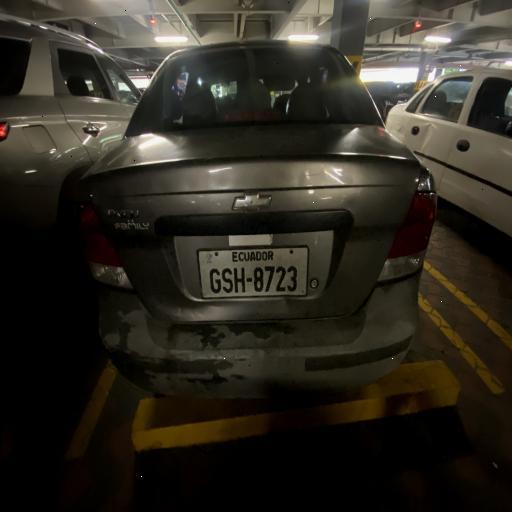license_plate: (207, 268, 222, 295), (233, 266, 246, 294), (221, 267, 234, 293), (264, 266, 276, 293), (275, 266, 287, 292), (253, 266, 264, 294), (287, 266, 298, 292)
